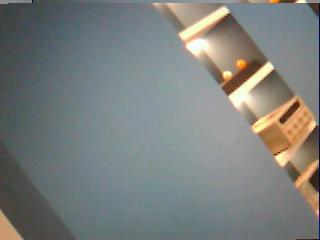oball: (236, 58, 246, 69)
